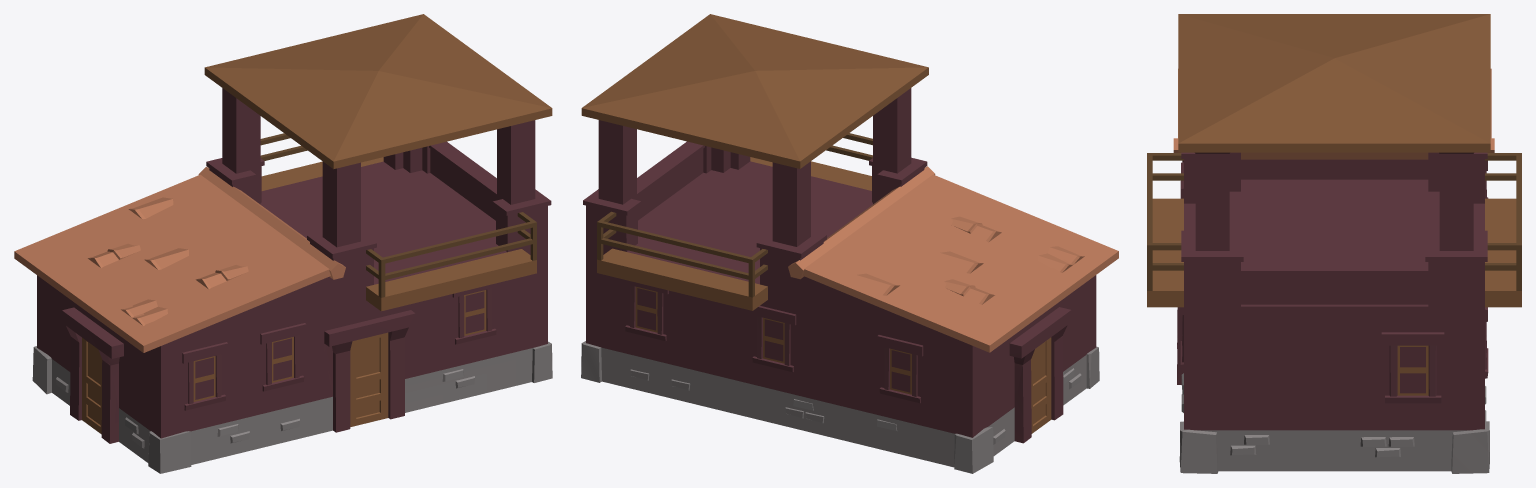
Rendered from SM_House_Rich_Small_Empire.fbx.
3 views of the same model, side by side, from view 1: azimuth 30°, elevation 25°; view 2: azimuth 150°, elevation 25°; view 3: azimuth 270°, elevation 25° (orthographic). The views are drawn at different scales.
Parts seen in each view (by area): view 1: SM_House_Rich_Small_Empire; view 2: SM_House_Rich_Small_Empire; view 3: SM_House_Rich_Small_Empire.
Boxes of the visible parts, bbox=[...] form: SM_House_Rich_Small_Empire: bbox=[14, 14, 552, 473]; SM_House_Rich_Small_Empire: bbox=[581, 14, 1118, 473]; SM_House_Rich_Small_Empire: bbox=[1147, 14, 1521, 473].
Size of the model in its own units: 10.17 by 6.8 by 6.61.
